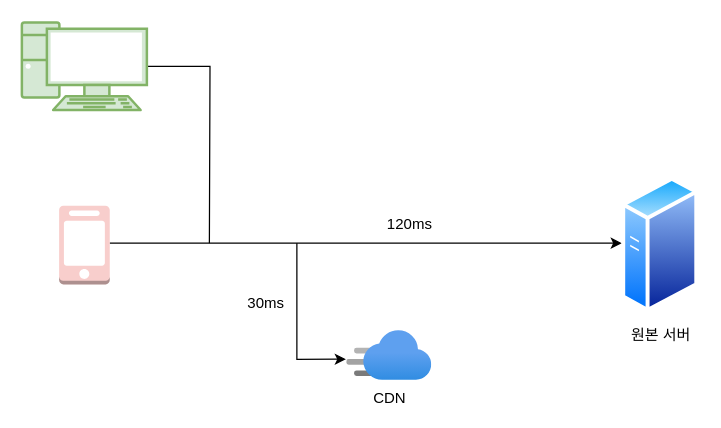
This 721x428 diagram has some shape labels left out. The centre of each missing label's shape, as x and y in pixels:
"클라이언트 1" goes at [84,65].
"클라이언트 2" goes at [84,244].
